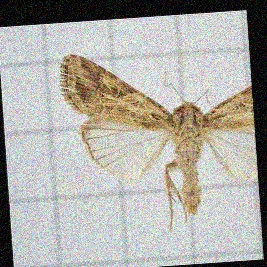Spodoptera litura: (63, 47, 254, 232)
